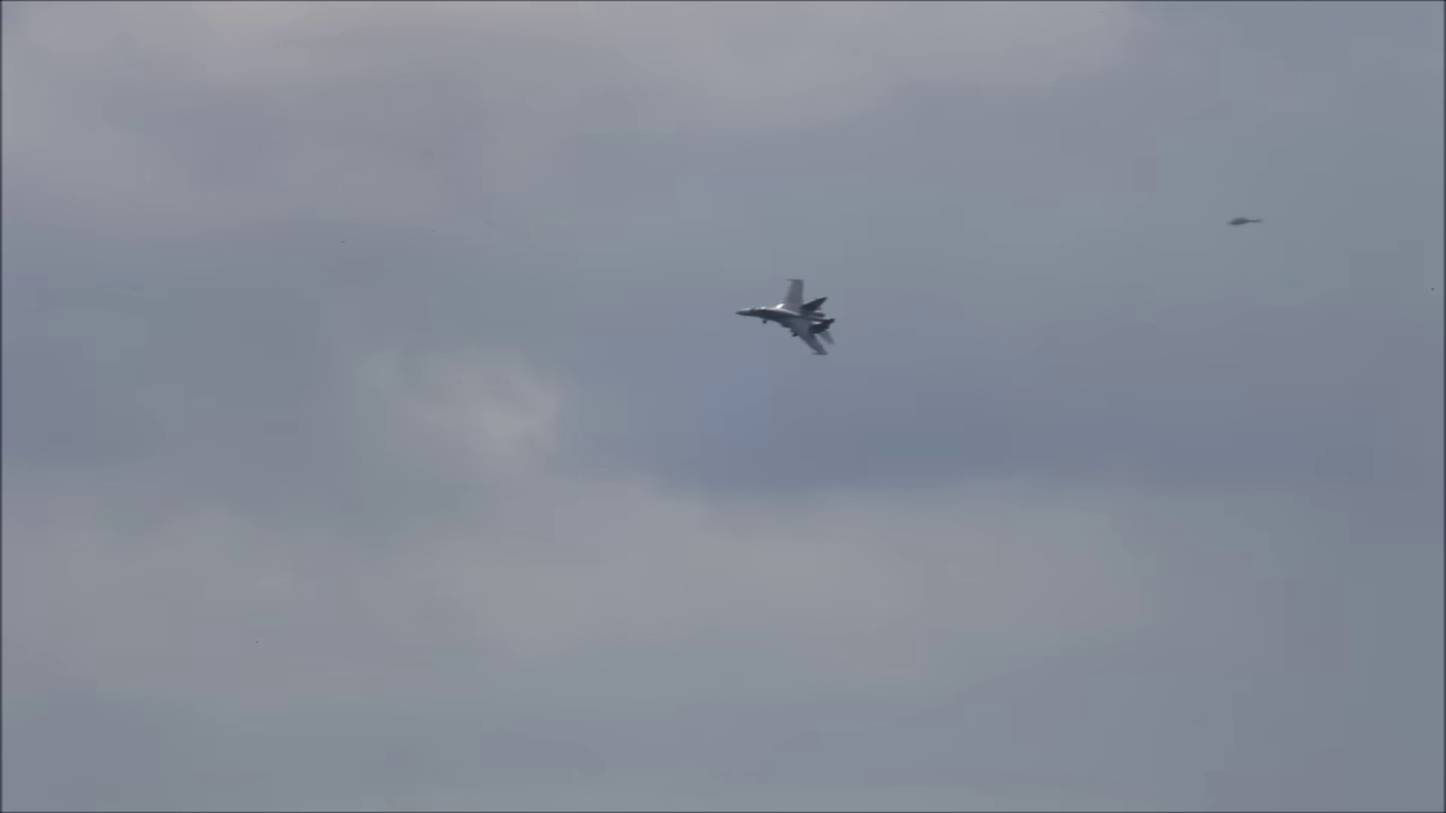Su35: (731, 272, 844, 367)
